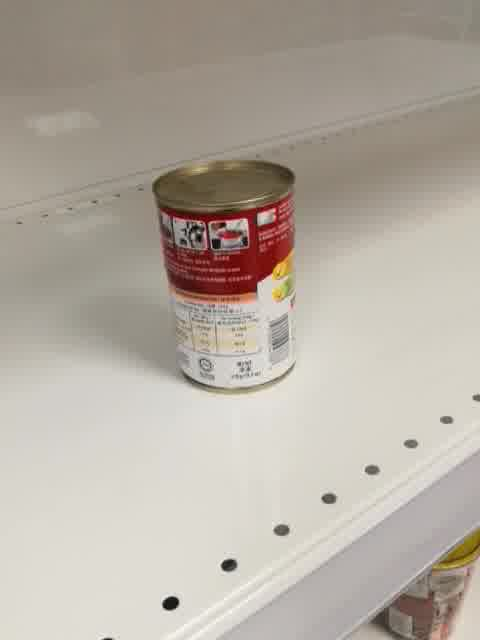tomatosoup: (151, 156, 300, 395)
